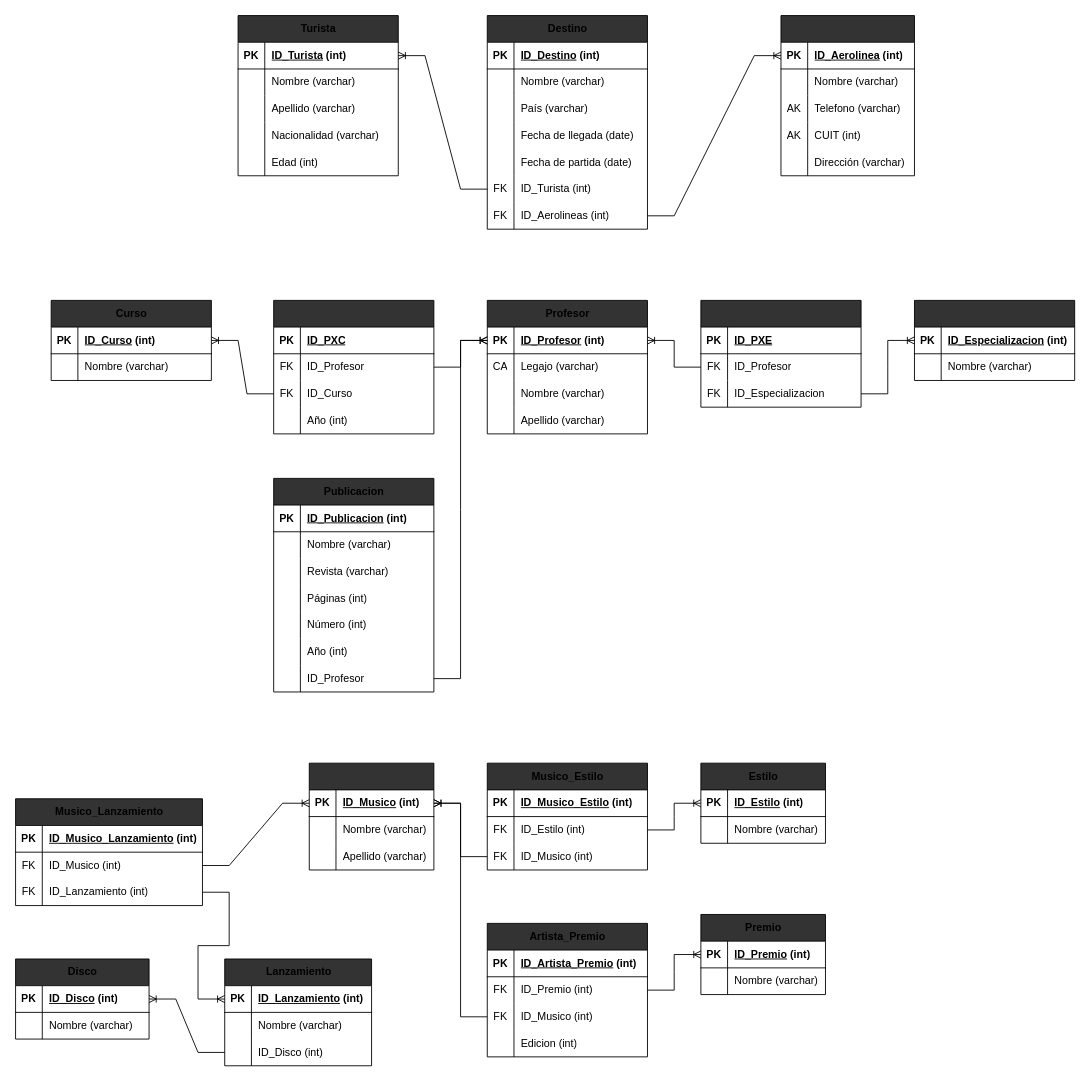
Some shapes in this 1090 by 1081 pixel diagram are drawn without their labels. The box of each missing label's shape, as (x1, y1, x2, y2) in pixels:
Aerolínea: (780, 15, 914, 176)
Especialización: (914, 299, 1075, 380)
Músico: (308, 762, 434, 870)
ProfesorXCurso: (273, 299, 434, 434)
ProfesorXEspecialidad: (700, 299, 861, 407)
